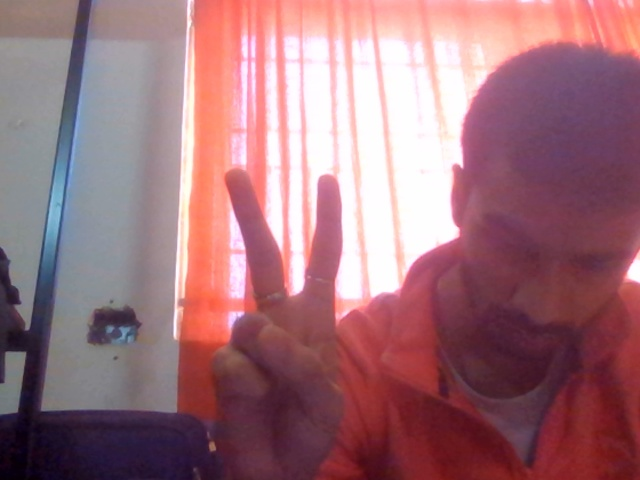V: (170, 137, 397, 480)
